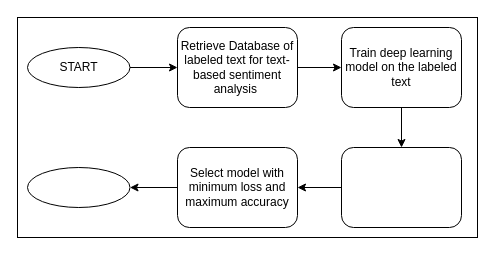
The diagram is 495 pixels wide and 255 high, and some of its shapes have lost their labels. Here are the shapes that lost their labels. From the top down, the centre of each, then its label:
(78,187): STOP
(401,187): Optimize model by tweaking hyperparameters
